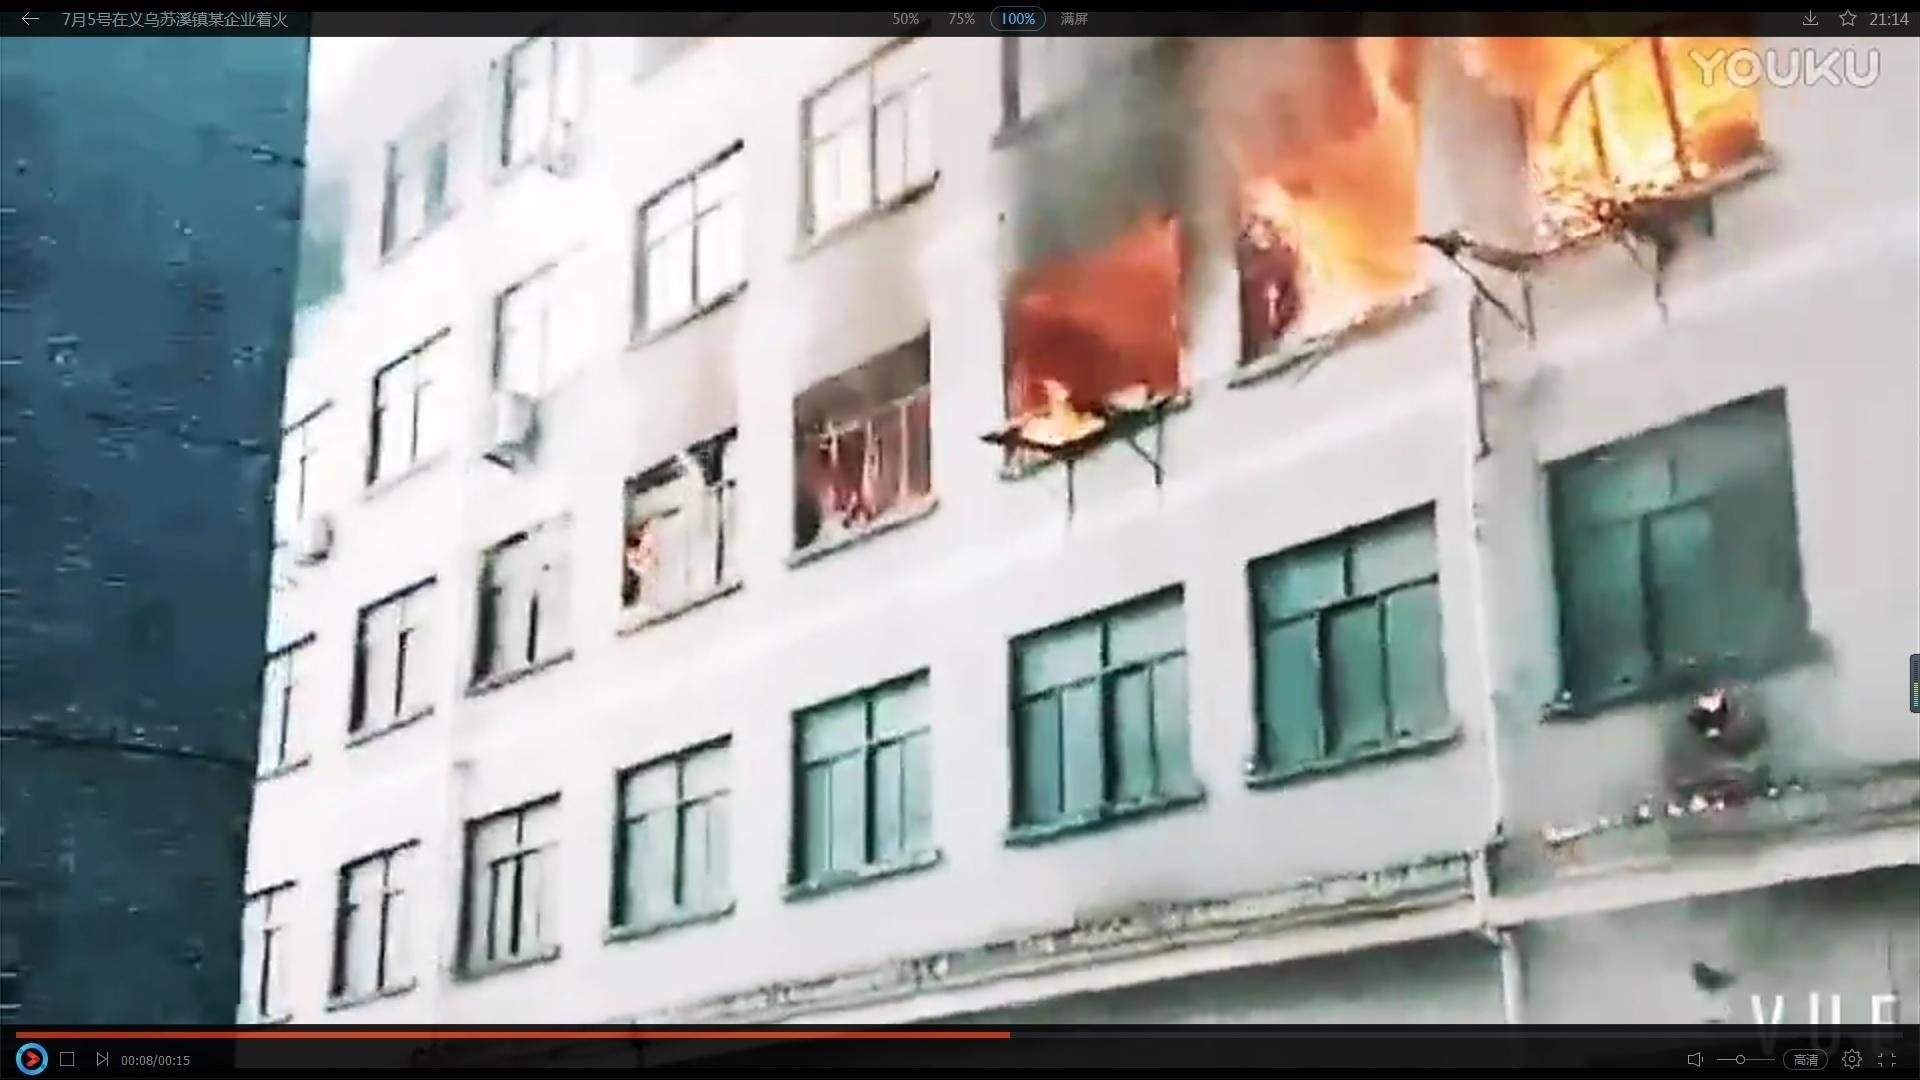fire: (1240, 51, 1422, 334), (1495, 37, 1756, 222), (1009, 369, 1106, 455)
